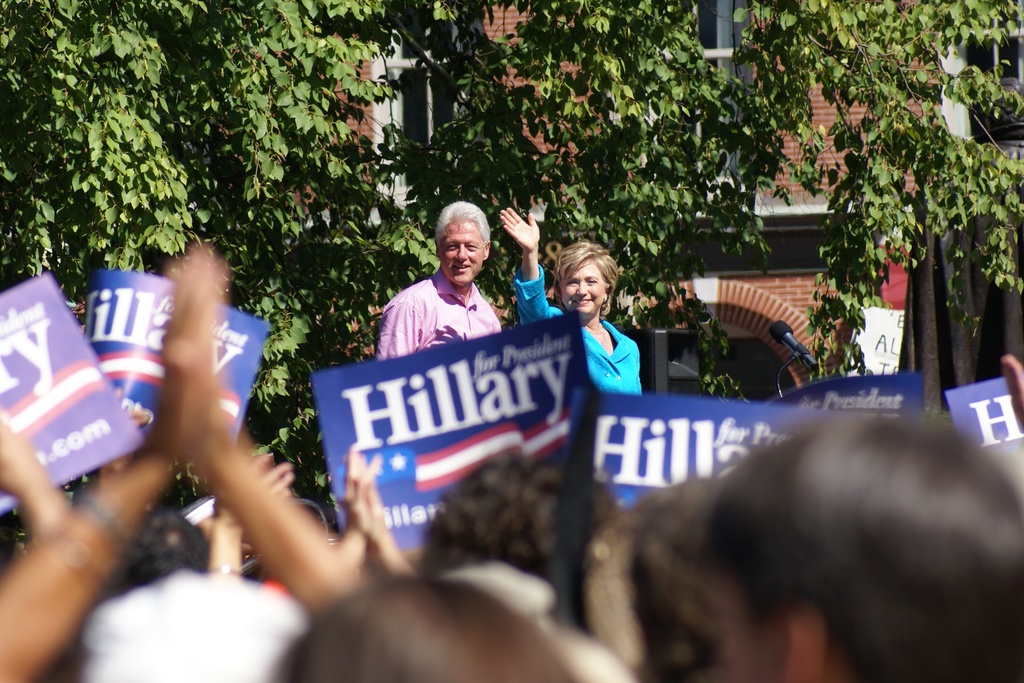Tree: (0, 0, 1023, 524)
